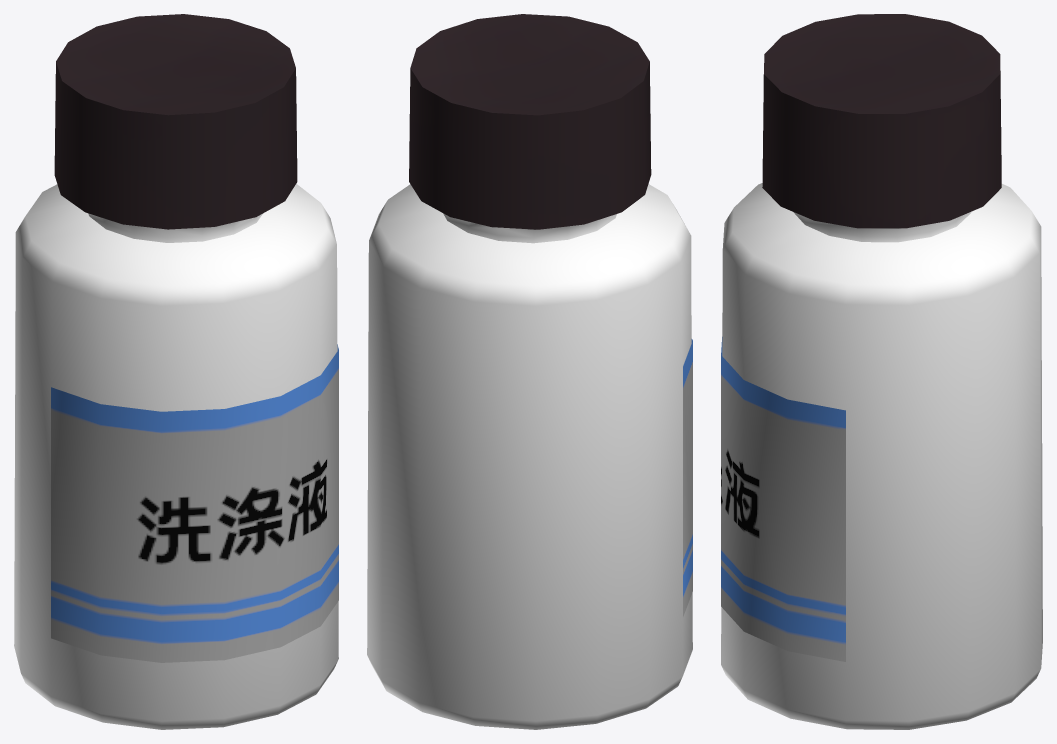
The model's file is 洗涤液.glb.
3 renders of one model, left to right at view 1: azimuth 30°, elevation 25°; view 2: azimuth 150°, elevation 25°; view 3: azimuth 270°, elevation 25°, orthographic.
Visible parts, largest first — view 1: 洗涤液, 1XPBS缓冲液.012, DAPI染液.005; view 2: 洗涤液, DAPI染液.005, 1XPBS缓冲液.012; view 3: 洗涤液, DAPI染液.005, 1XPBS缓冲液.012.
Boxes of the visible parts, x1,y1,x2,y2 form: 洗涤液: (14, 184, 338, 729); 1XPBS缓冲液.012: (51, 344, 338, 662); DAPI染液.005: (54, 14, 297, 229); 洗涤液: (367, 184, 692, 729); DAPI染液.005: (409, 14, 651, 229); 1XPBS缓冲液.012: (683, 339, 692, 616); 洗涤液: (721, 183, 1042, 729); DAPI染液.005: (762, 14, 1001, 228); 1XPBS缓冲液.012: (721, 337, 845, 661).
Bounding box in the file's own units: 0.1005 × 0.2082 × 0.1005.
2 materials, 2 textured.
